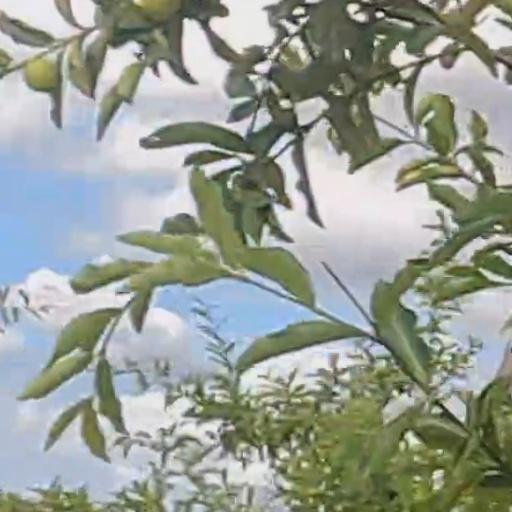acerola_verde: (27, 61, 60, 91), (146, 1, 180, 20)
